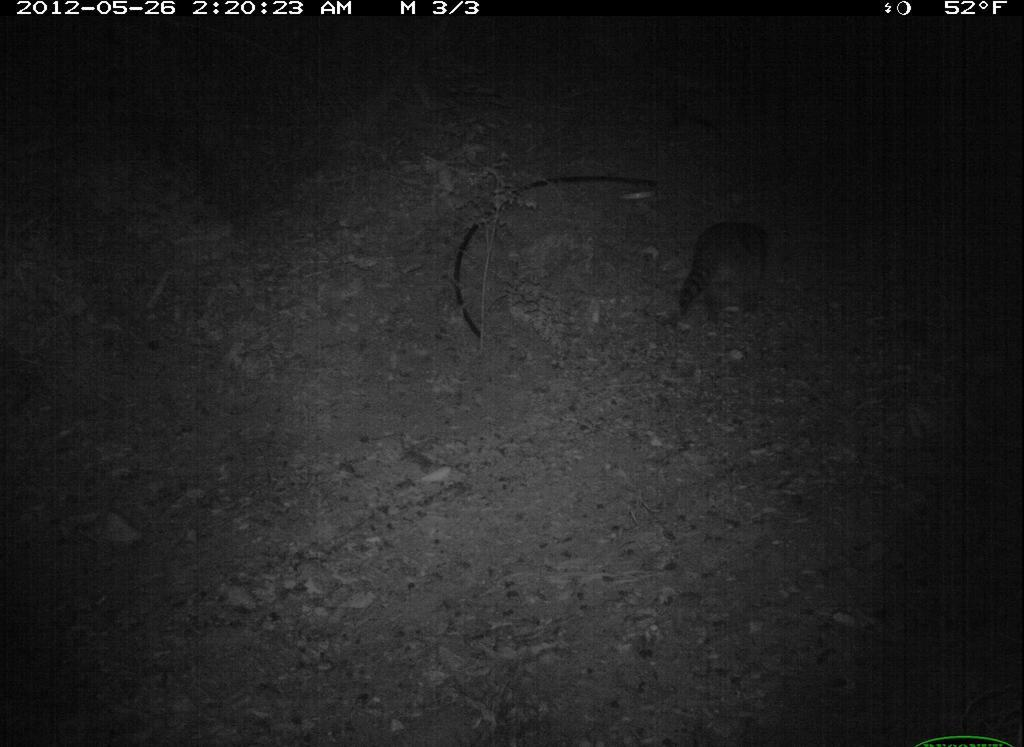raccoon: (670, 210, 783, 342)
